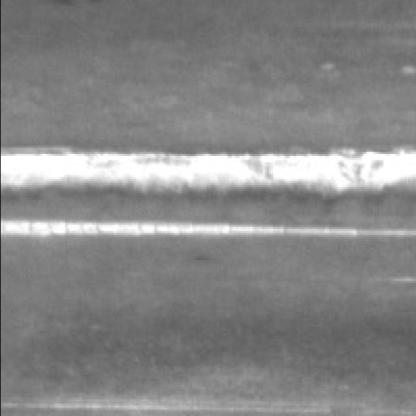scratches: (0, 146, 412, 202), (0, 221, 412, 244)
